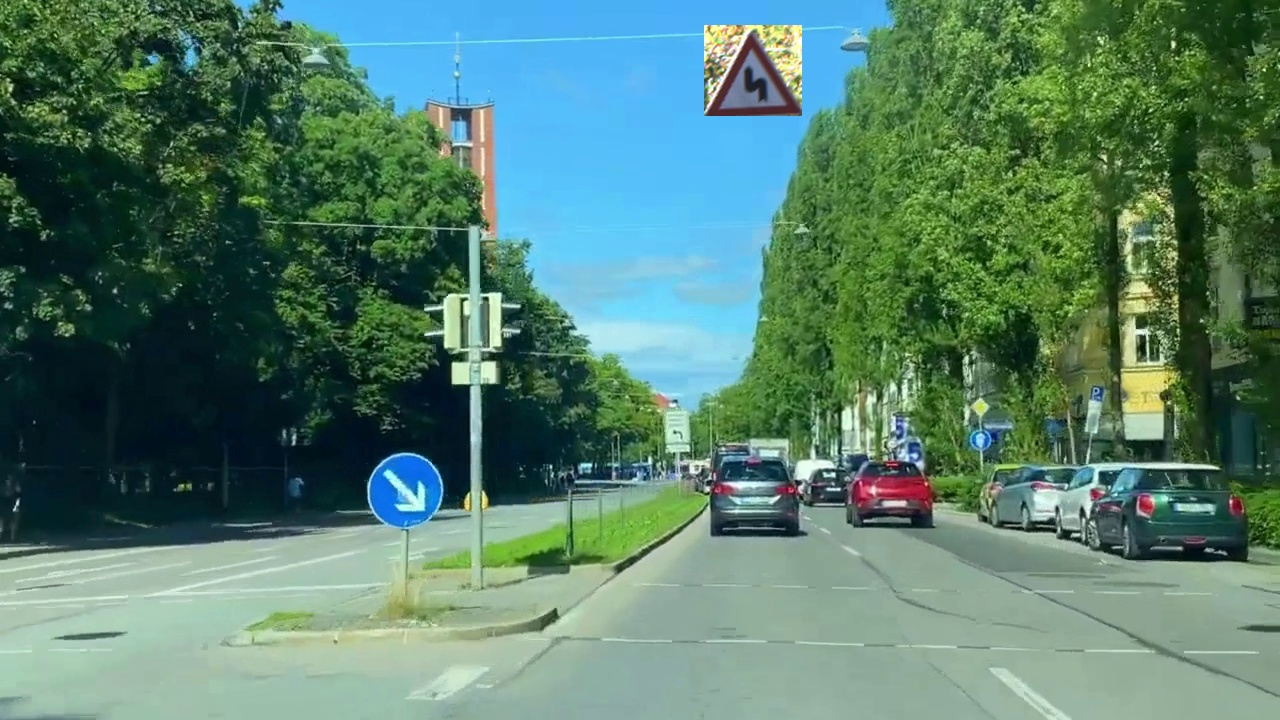Double curve: (704, 25, 802, 116)
